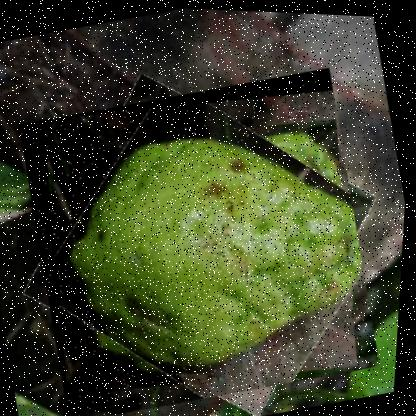guava: (5, 52, 399, 415)
